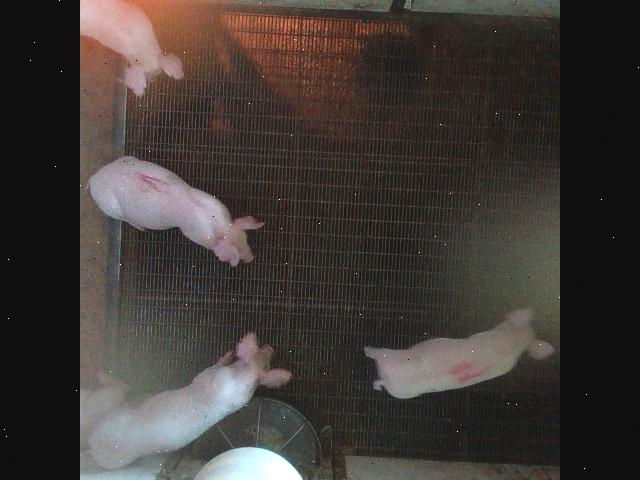pig-4: (364, 308, 555, 398)
